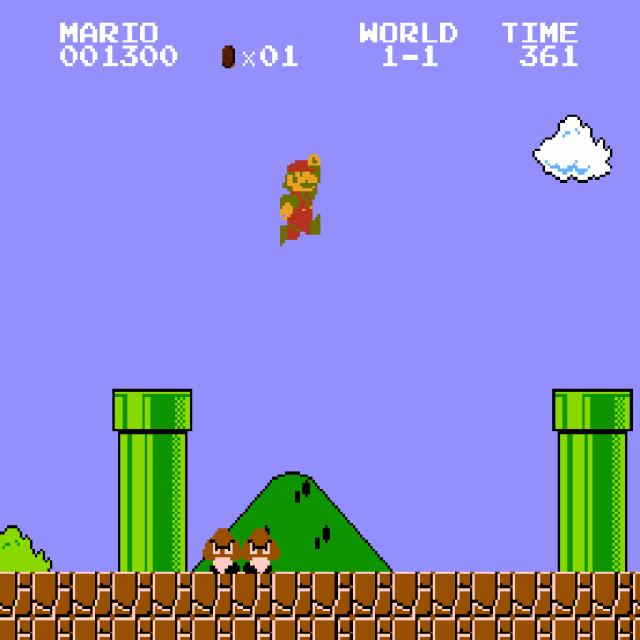big_mario: (277, 152, 320, 246)
goomba: (237, 526, 280, 574), (200, 526, 242, 574)
pipe: (112, 434, 153, 480), (112, 480, 153, 526), (152, 434, 193, 480), (152, 480, 193, 526), (552, 434, 593, 480), (552, 480, 593, 526), (592, 434, 633, 480), (592, 480, 633, 526), (112, 526, 153, 571), (152, 526, 193, 571), (552, 526, 593, 571), (592, 526, 633, 571)
pipe_head: (112, 389, 153, 434), (152, 389, 193, 434), (552, 389, 593, 434), (592, 389, 633, 434)
undestructible_block: (32, 572, 73, 617), (72, 572, 113, 617), (112, 572, 153, 617), (152, 572, 193, 617), (192, 572, 233, 617), (232, 572, 273, 617), (272, 572, 313, 617), (312, 572, 353, 617), (352, 572, 393, 617), (392, 572, 433, 617), (432, 572, 473, 617), (472, 572, 513, 617), (512, 572, 553, 617), (552, 572, 593, 617), (592, 572, 633, 617), (0, 571, 32, 617), (32, 617, 73, 640), (72, 617, 113, 640), (112, 617, 153, 640), (152, 617, 193, 640), (192, 617, 233, 640), (232, 617, 273, 640), (272, 617, 313, 640), (312, 617, 353, 640), (352, 617, 393, 640), (392, 617, 433, 640), (432, 617, 473, 640), (472, 617, 513, 640), (512, 617, 553, 640), (552, 617, 593, 640), (592, 617, 633, 640), (0, 617, 32, 639), (633, 572, 640, 617), (633, 617, 640, 640)
